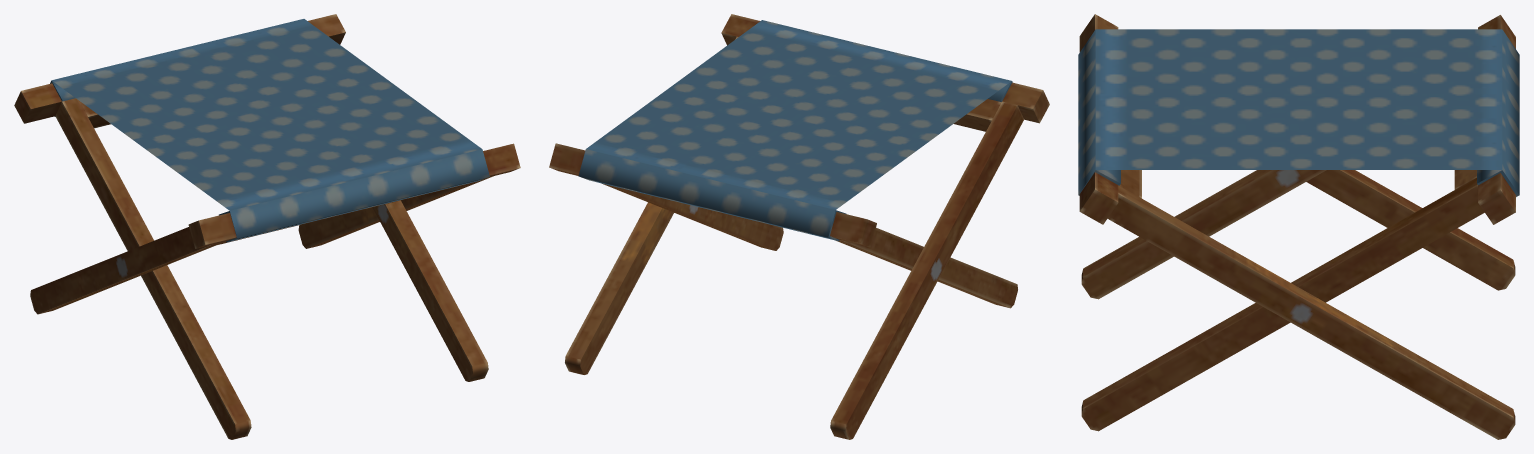
The model's file is pi_chair01_dlc1_05_03.gltf.
3 renders of one model, left to right at view 1: azimuth 30°, elevation 25°; view 2: azimuth 150°, elevation 25°; view 3: azimuth 270°, elevation 25°, orthographic. The views are drawn at different scales.
Visible parts, largest first — view 1: pi_chair01_dlc1_05_03_mesh_shape:pi_chair01_dlc1_17_main; view 2: pi_chair01_dlc1_05_03_mesh_shape:pi_chair01_dlc1_17_main; view 3: pi_chair01_dlc1_05_03_mesh_shape:pi_chair01_dlc1_17_main.
Part boxes in pixels (x1,y1,x2,y2): pi_chair01_dlc1_05_03_mesh_shape:pi_chair01_dlc1_17_main: [14, 14, 520, 439]; pi_chair01_dlc1_05_03_mesh_shape:pi_chair01_dlc1_17_main: [549, 14, 1049, 439]; pi_chair01_dlc1_05_03_mesh_shape:pi_chair01_dlc1_17_main: [1078, 14, 1519, 439].
Size of what is drawn, in the model's own units: 0.4989 by 0.3463 by 0.53.
Materials: 1 (1 with a texture image).
